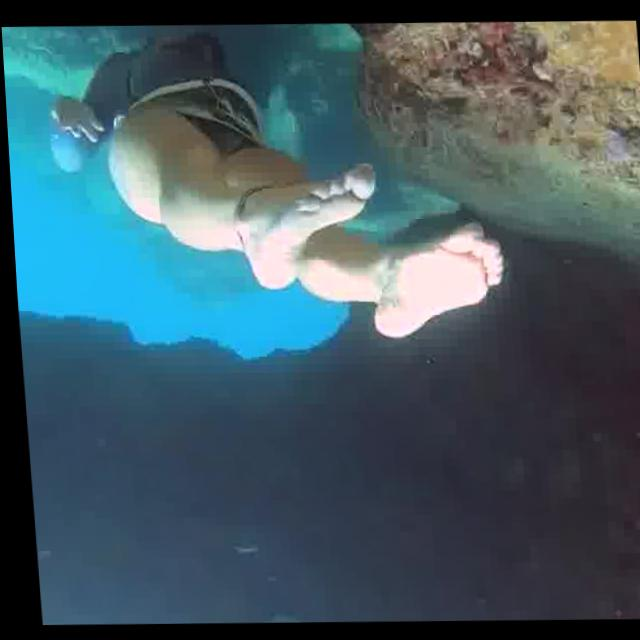human: (25, 22, 534, 354)
